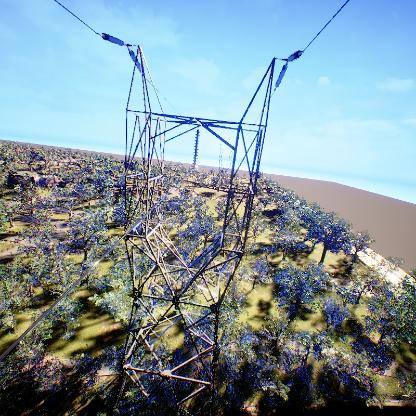tower: (100, 32, 305, 416)
